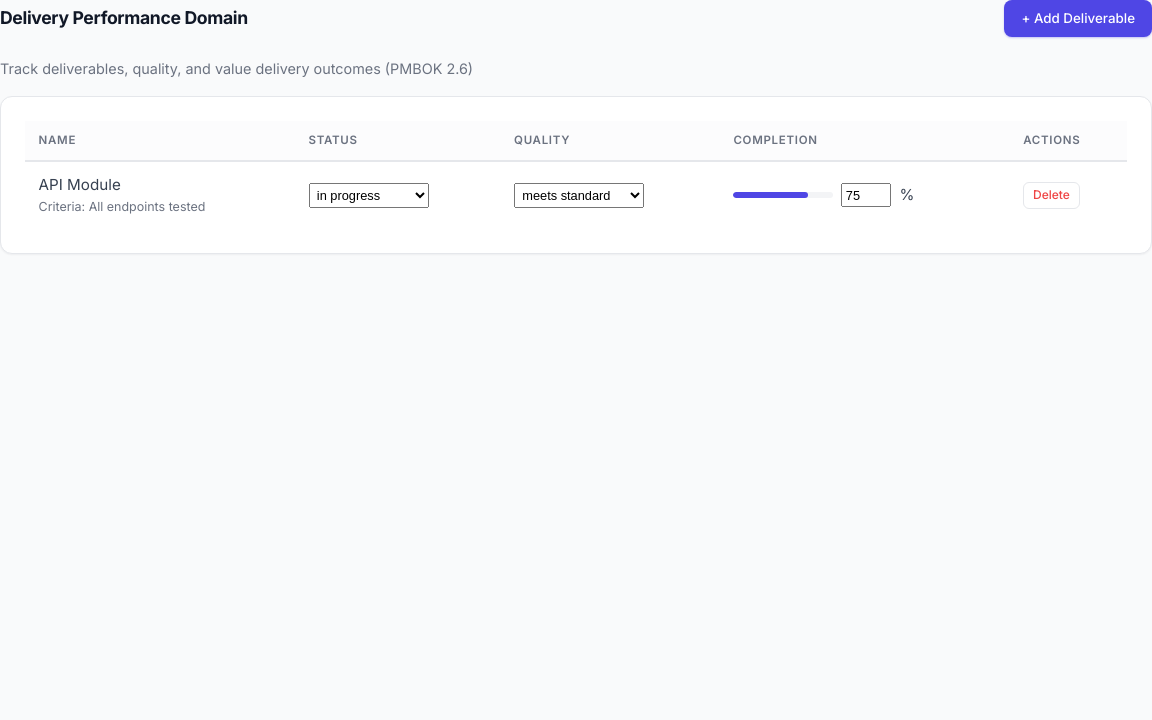
Test case: DeliverablesPage › opens create modal
Click the button "+ Add Deliverable" at (1078, 18), box [1004,0,1151,37]
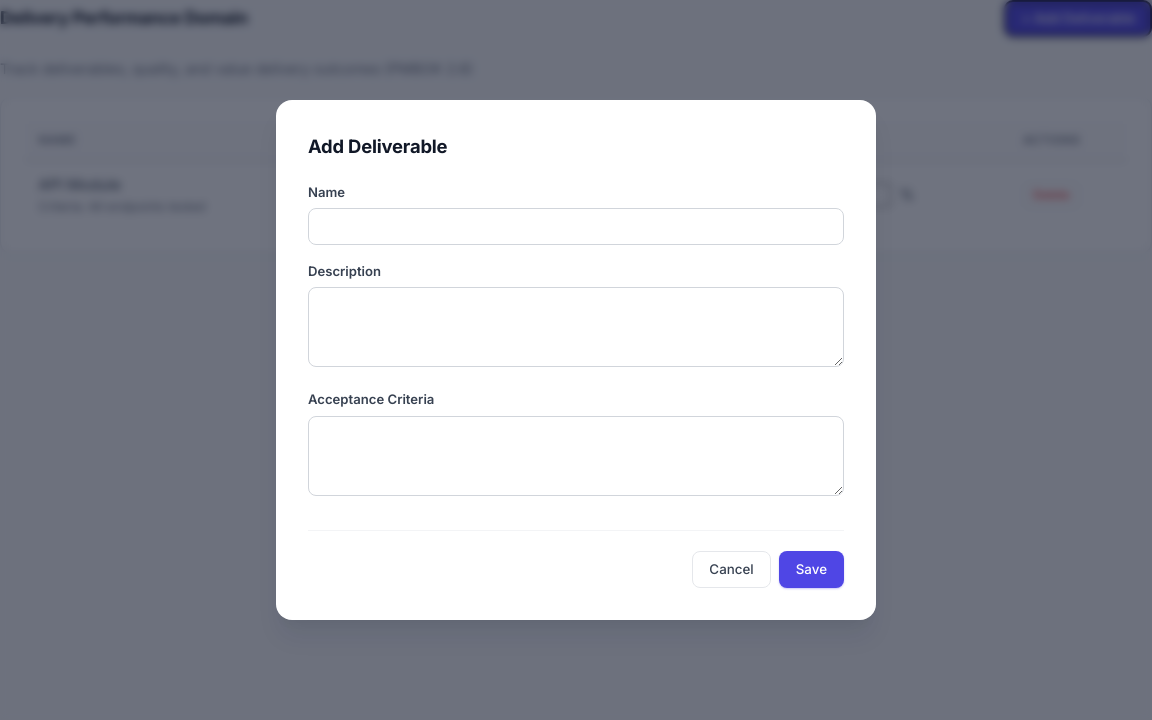
Result: the heading "Add Deliverable" is shown at [308,135,447,157]
Result: the text "Acceptance Criteria" is shown at [308,392,434,408]
